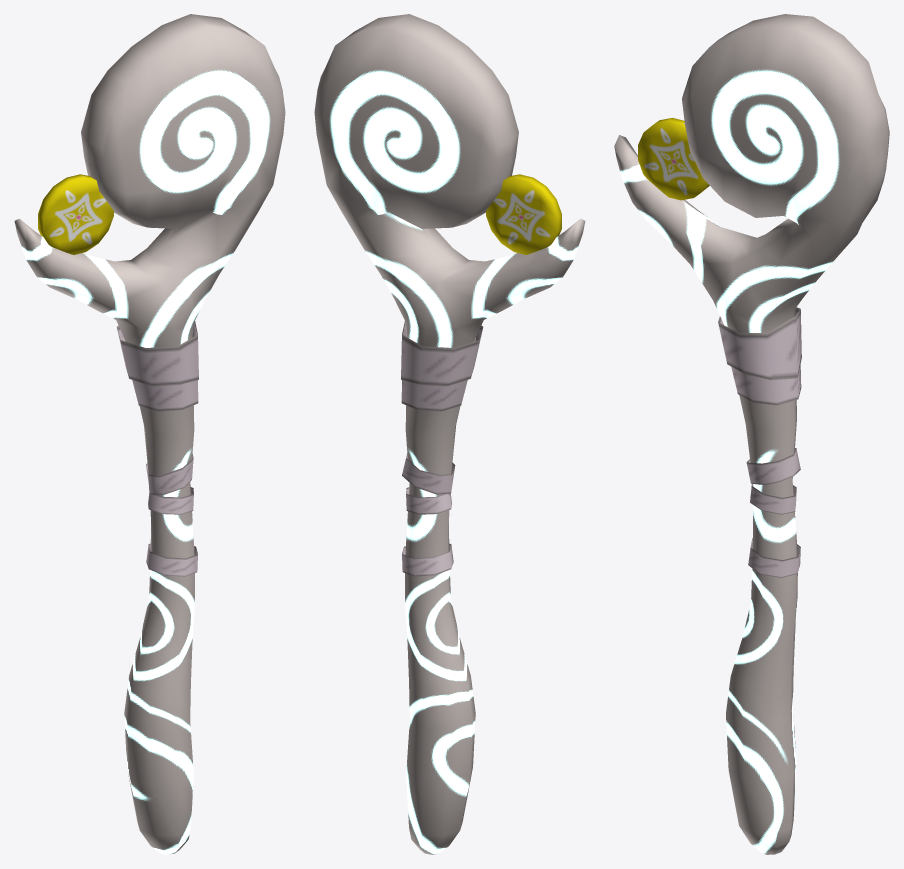
The model's file is Cetro3.fbx.
3 views of the same model, side by side, from view 1: azimuth 30°, elevation 25°; view 2: azimuth 150°, elevation 25°; view 3: azimuth 330°, elevation 25° (orthographic).
Visible parts, largest first — view 1: Cetrp; view 2: Cetrp; view 3: Cetrp.
Part boxes in pixels (<box>): Cetrp: <box>14,14,285,854</box>; Cetrp: <box>314,14,585,854</box>; Cetrp: <box>614,14,889,854</box>.
Bounding box in the file's own units: 30.07 × 91.26 × 8.62.
